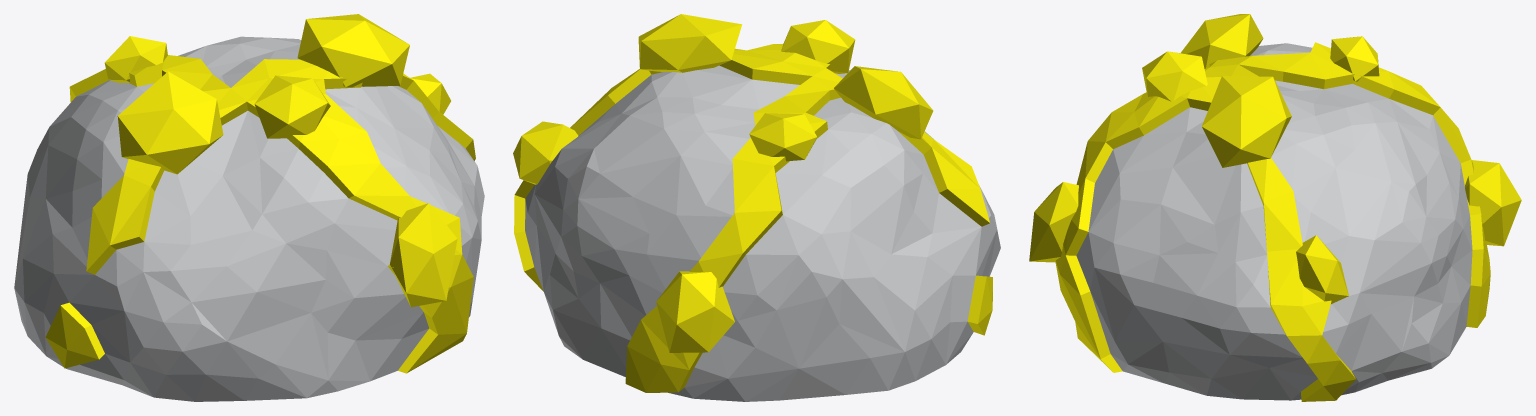
The model's file is GoldOre1.fbx.
3 views of the same model, side by side, from view 1: azimuth 30°, elevation 25°; view 2: azimuth 150°, elevation 25°; view 3: azimuth 270°, elevation 25° (orthographic). The views are drawn at different scales.
Parts seen in each view (by area): view 1: GoldOre1; view 2: GoldOre1; view 3: GoldOre1.
Part boxes in pixels (<box>): GoldOre1: <box>14,14,484,401</box>; GoldOre1: <box>513,14,1000,401</box>; GoldOre1: <box>1029,14,1521,401</box>.
Bounding box in the file's own units: 2.17 × 1.29 × 2.18.
